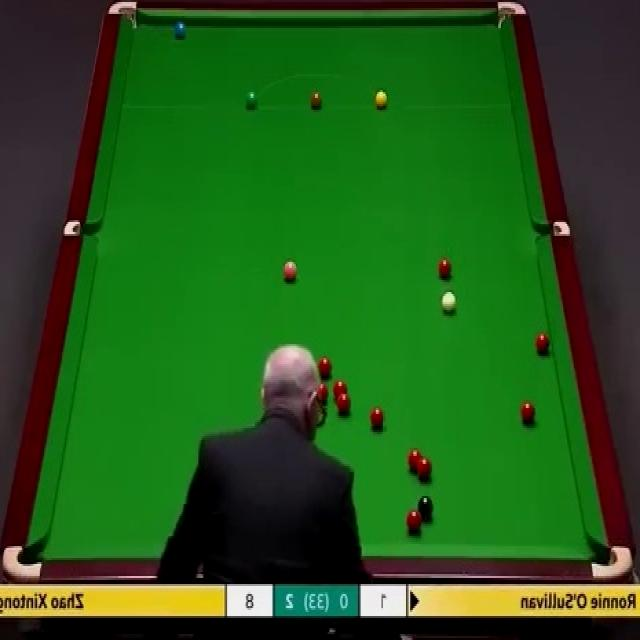black-ball: (417, 498, 433, 518)
blue-ball: (174, 20, 186, 42)
brown-ball: (310, 90, 323, 109)
green-ball: (246, 90, 259, 109)
pink-ball: (282, 262, 298, 284)
red-ball: (519, 399, 535, 426), (316, 354, 334, 378), (534, 333, 550, 358), (408, 448, 422, 474), (371, 404, 385, 428), (417, 458, 432, 480), (335, 394, 350, 415), (333, 378, 348, 399), (406, 515, 421, 536), (438, 260, 452, 278)
white-ball: (440, 290, 458, 314)
yellow-ball: (375, 90, 388, 109)
